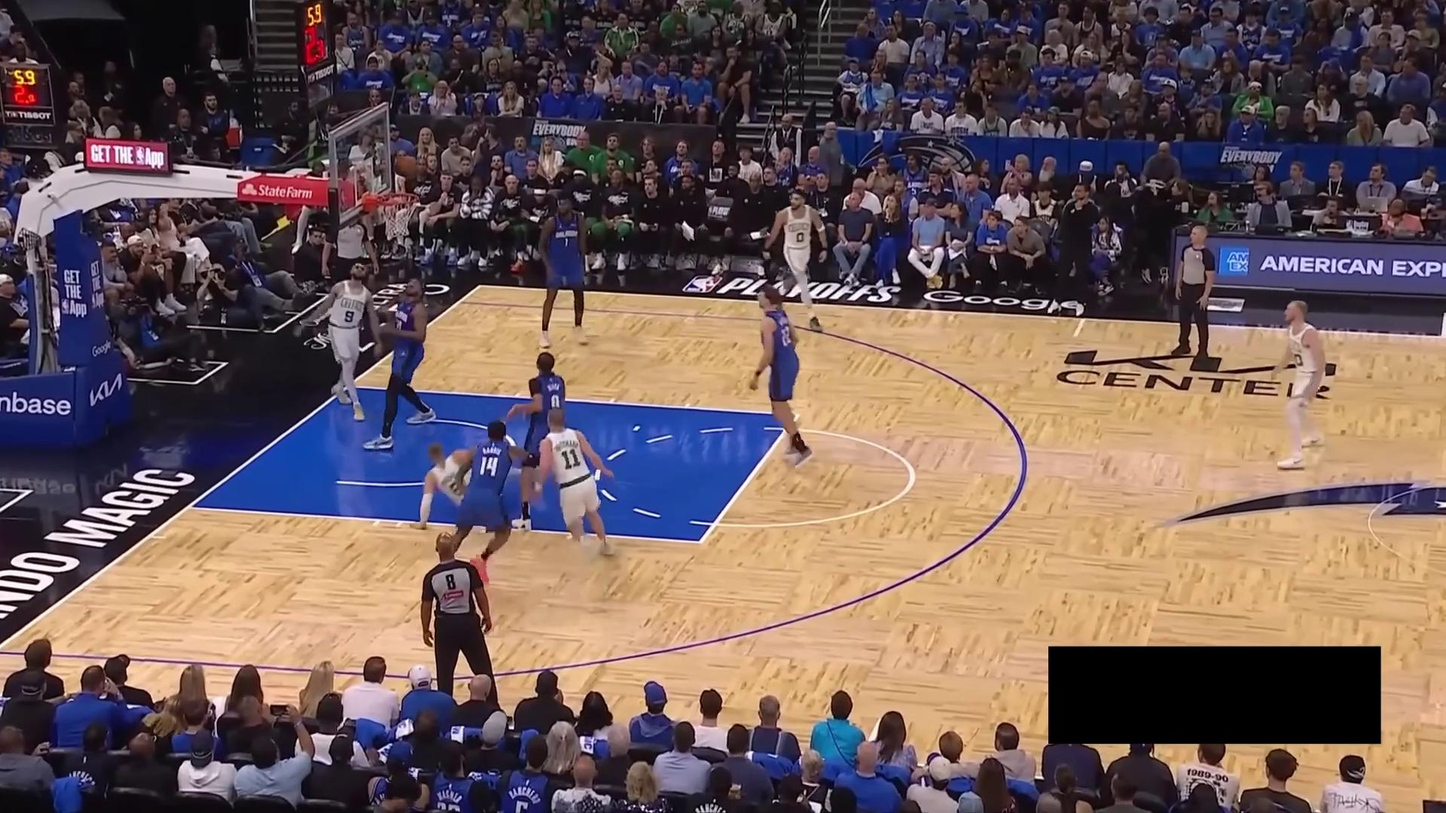ball: (394, 155, 417, 176)
number: (477, 454, 499, 477), (559, 447, 580, 471), (780, 325, 793, 346), (548, 392, 560, 409), (344, 310, 354, 323), (796, 232, 804, 243), (564, 238, 569, 248)
player: (495, 345, 573, 533), (296, 257, 382, 424), (452, 419, 537, 584), (360, 275, 437, 455), (533, 407, 621, 560), (750, 282, 817, 469), (410, 440, 541, 534), (1267, 298, 1331, 473), (535, 188, 598, 349), (756, 189, 828, 329)
referee: (418, 531, 511, 725), (321, 213, 380, 331), (1171, 219, 1218, 366)
rim: (371, 188, 421, 212)
